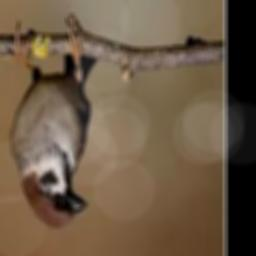Sparrow: (10, 19, 97, 229)
